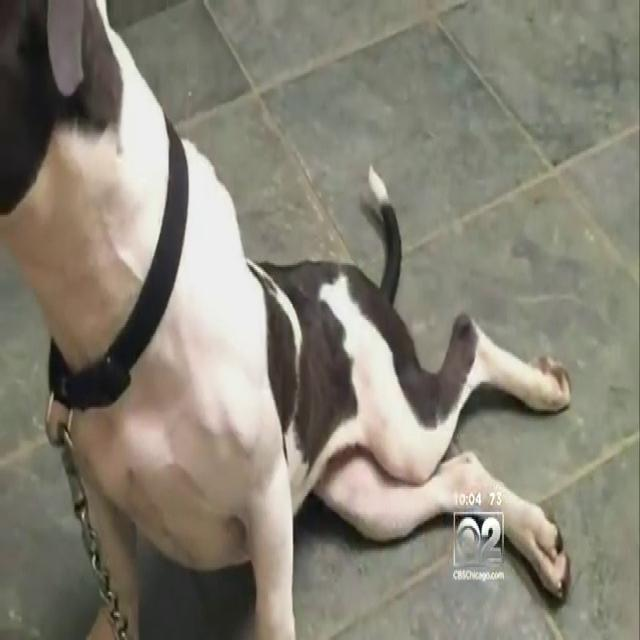normal_animals: (3, 3, 576, 633)
